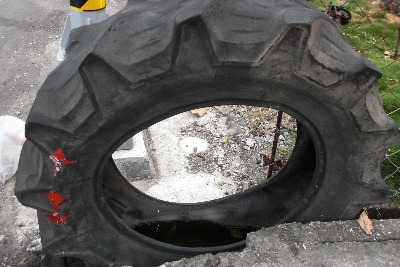tire: (16, 1, 400, 266)
